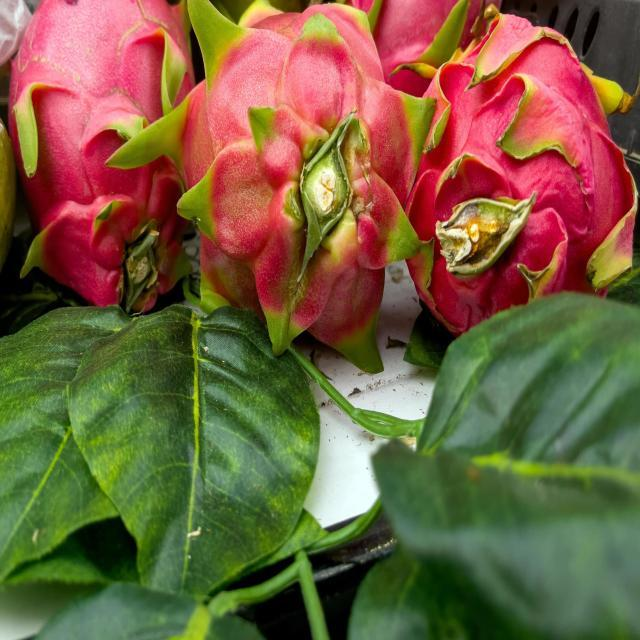dragon-fruit: (177, 10, 407, 337), (404, 24, 629, 338), (5, 0, 198, 314), (347, 0, 504, 98)
